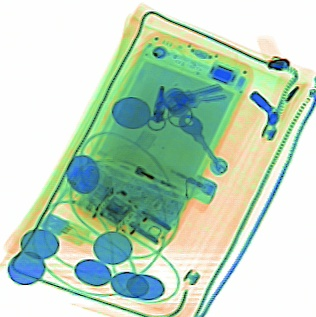lighter: (111, 143, 217, 204)
